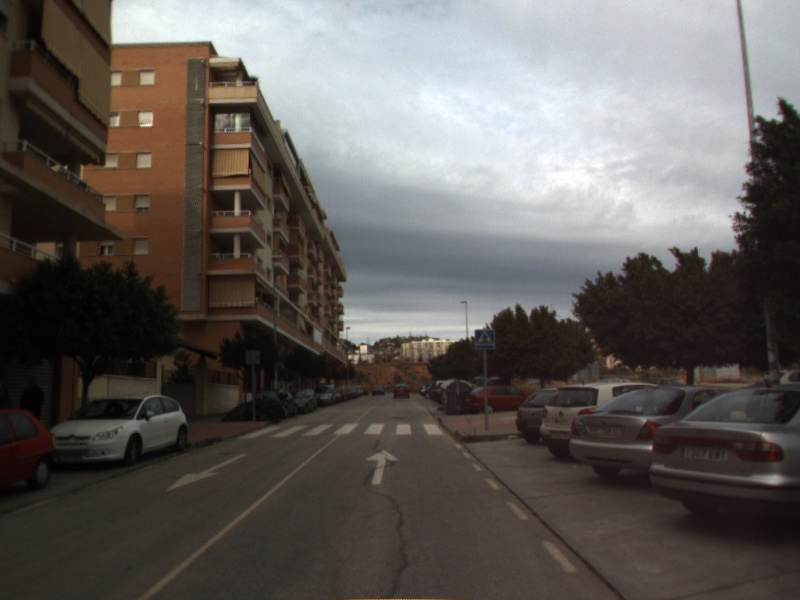STRAIGHT: (364, 447, 401, 486)
